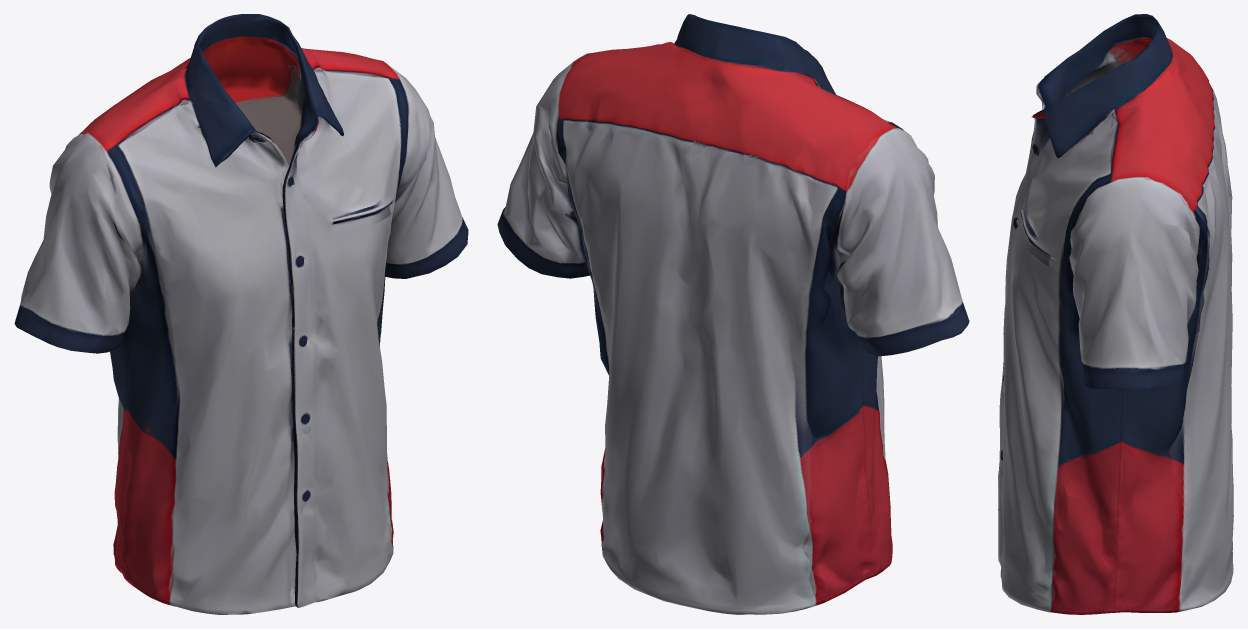
The model's file is KK-006 Rev4.glb.
3 views of the same model, side by side, from view 1: azimuth 30°, elevation 25°; view 2: azimuth 150°, elevation 25°; view 3: azimuth 270°, elevation 25° (orthographic). The views are drawn at different scales.
Visible parts, largest first — view 1: tripo_node_688671ad-3fd3-45bb-aa81-b3bc8398e70c; view 2: tripo_node_688671ad-3fd3-45bb-aa81-b3bc8398e70c; view 3: tripo_node_688671ad-3fd3-45bb-aa81-b3bc8398e70c.
Boxes of the visible parts, x1,y1,x2,y2 form: tripo_node_688671ad-3fd3-45bb-aa81-b3bc8398e70c: [14, 14, 468, 614]; tripo_node_688671ad-3fd3-45bb-aa81-b3bc8398e70c: [497, 14, 969, 614]; tripo_node_688671ad-3fd3-45bb-aa81-b3bc8398e70c: [998, 14, 1233, 614].
Bounding box in the file's own units: 0.851 × 0.9797 × 0.386.
1 material, 1 textured.
